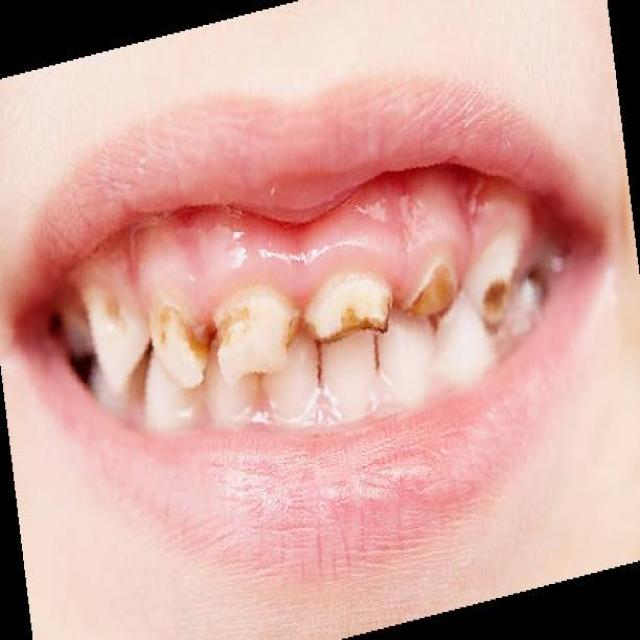caries: (323, 295, 392, 367), (157, 297, 219, 371), (406, 263, 453, 322), (282, 298, 322, 364), (101, 279, 138, 340), (220, 302, 259, 354), (483, 274, 515, 328)
